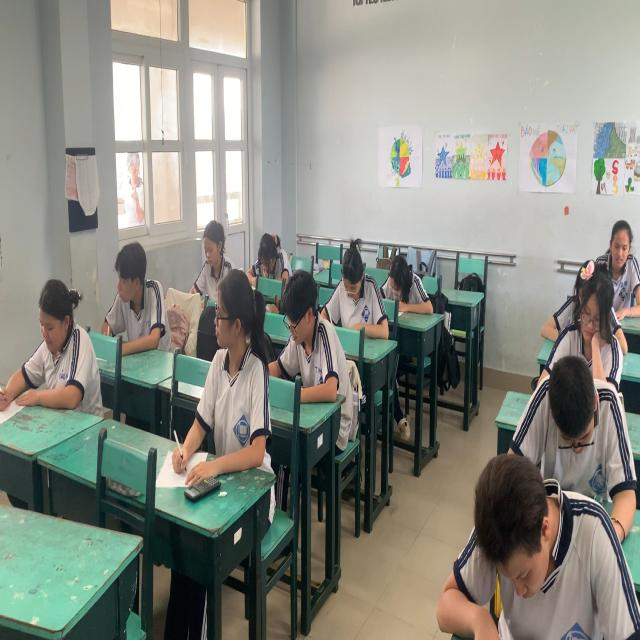cheating: (202, 268, 260, 496), (107, 247, 162, 337)
not_cheating: (459, 448, 594, 640), (543, 348, 614, 465), (35, 278, 94, 413), (280, 281, 333, 403), (336, 230, 376, 337), (574, 269, 609, 375), (599, 212, 640, 296), (247, 230, 292, 282), (197, 216, 233, 275), (385, 261, 418, 306)
